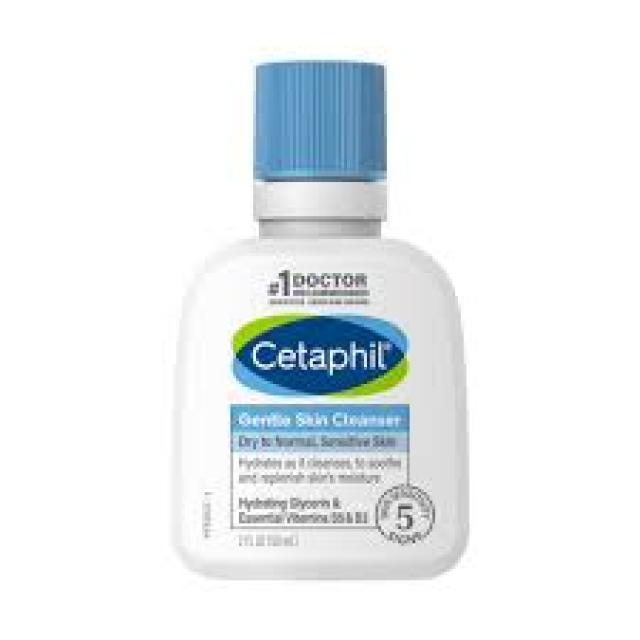Botella: (156, 28, 469, 563)
